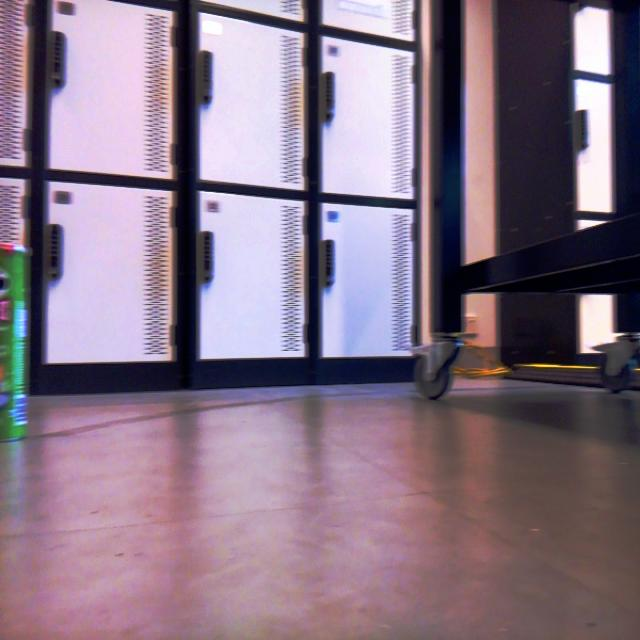greenpringles: (3, 238, 37, 452)
